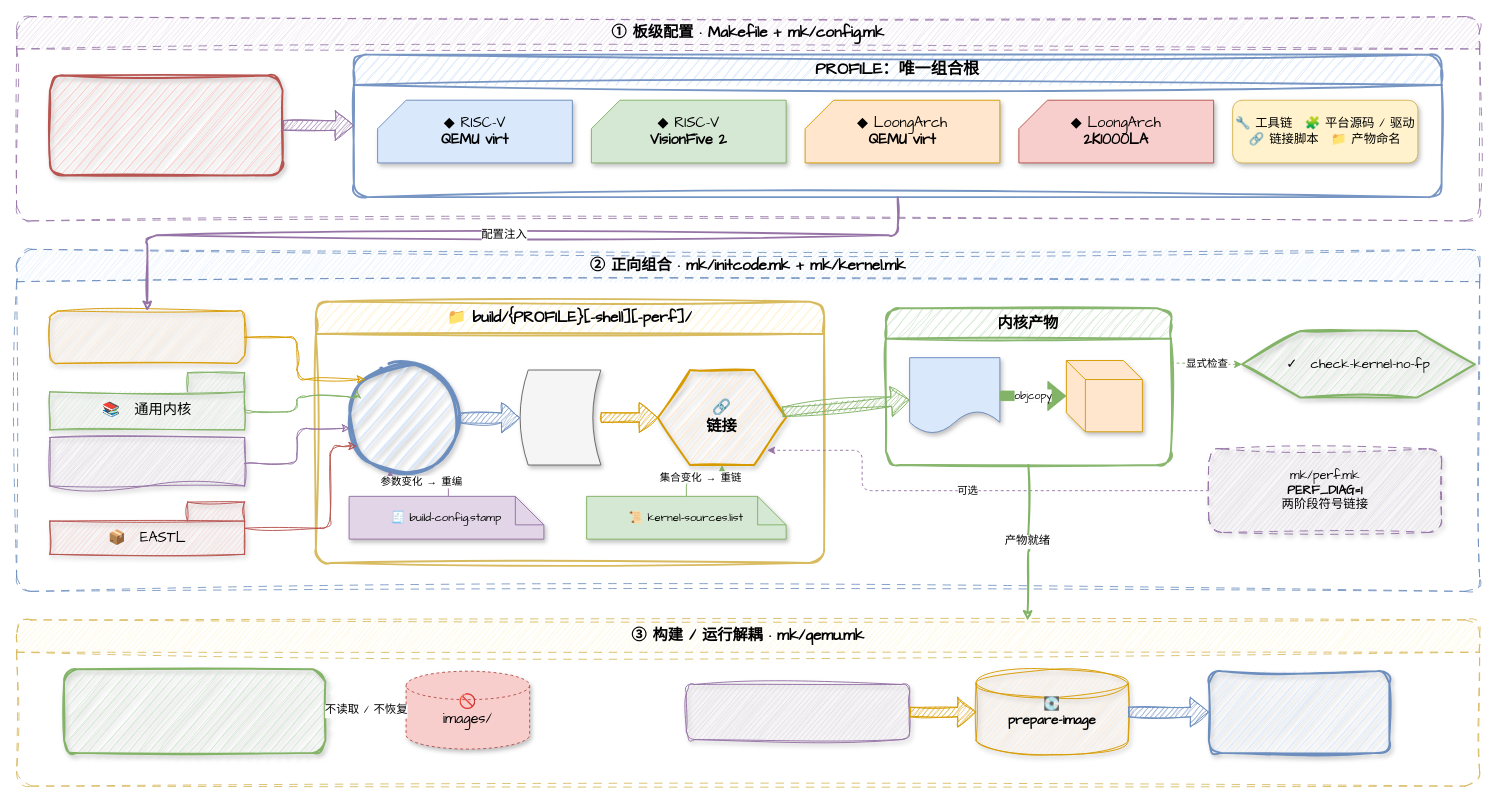
The diagram is 1498 pixels wide and 803 high, and some of its shapes have lost their labels. Here are the shapes that lost their labels. From the top down, the centre of each, then its label:
point (167, 126): ⌨ make build PROFILE · MODE · PERF_DIAG
point (147, 338): 🧩 当前画像实现
point (955, 396): ELF
point (1105, 397): BIN
point (404, 419): ⚙ 编译
point (561, 418): .o .d …
point (147, 464): 📄 initcode
point (195, 712): 🔒 build / all 只生成产物
point (798, 713): ⌨ run / shell / debug
point (1300, 713): 🖥 QEMU
